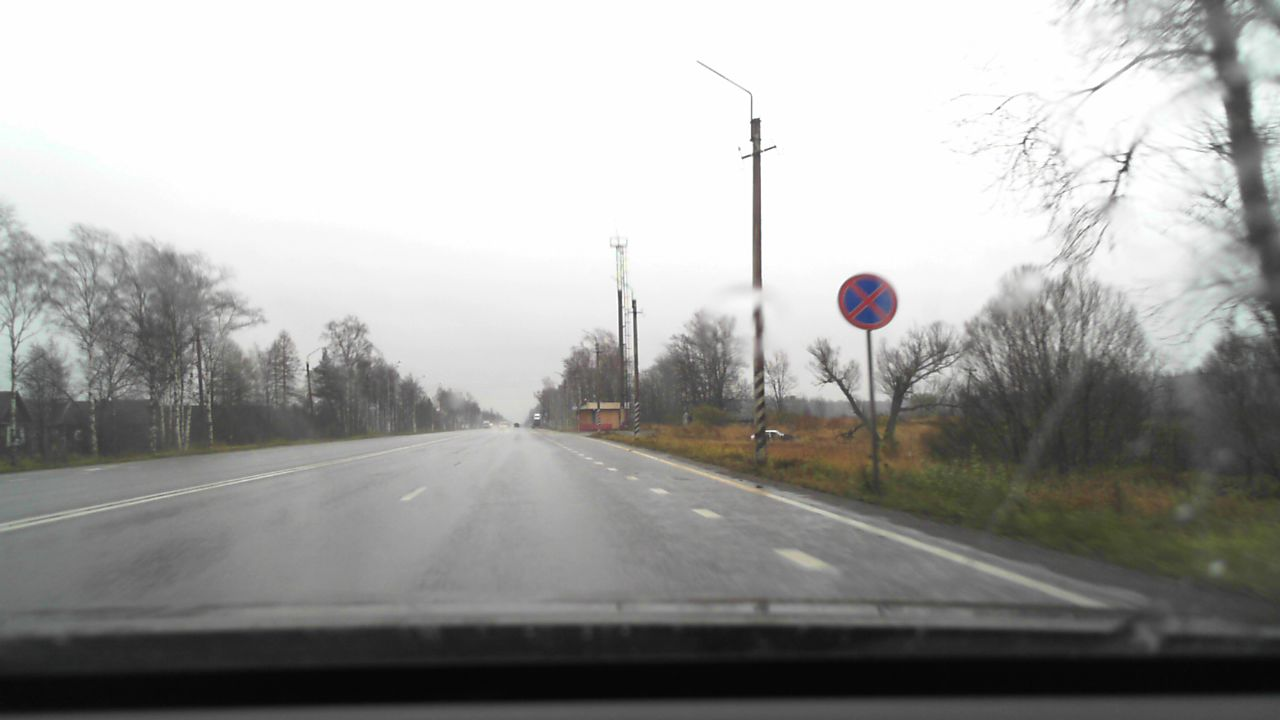No Parking: (839, 274, 897, 330)
